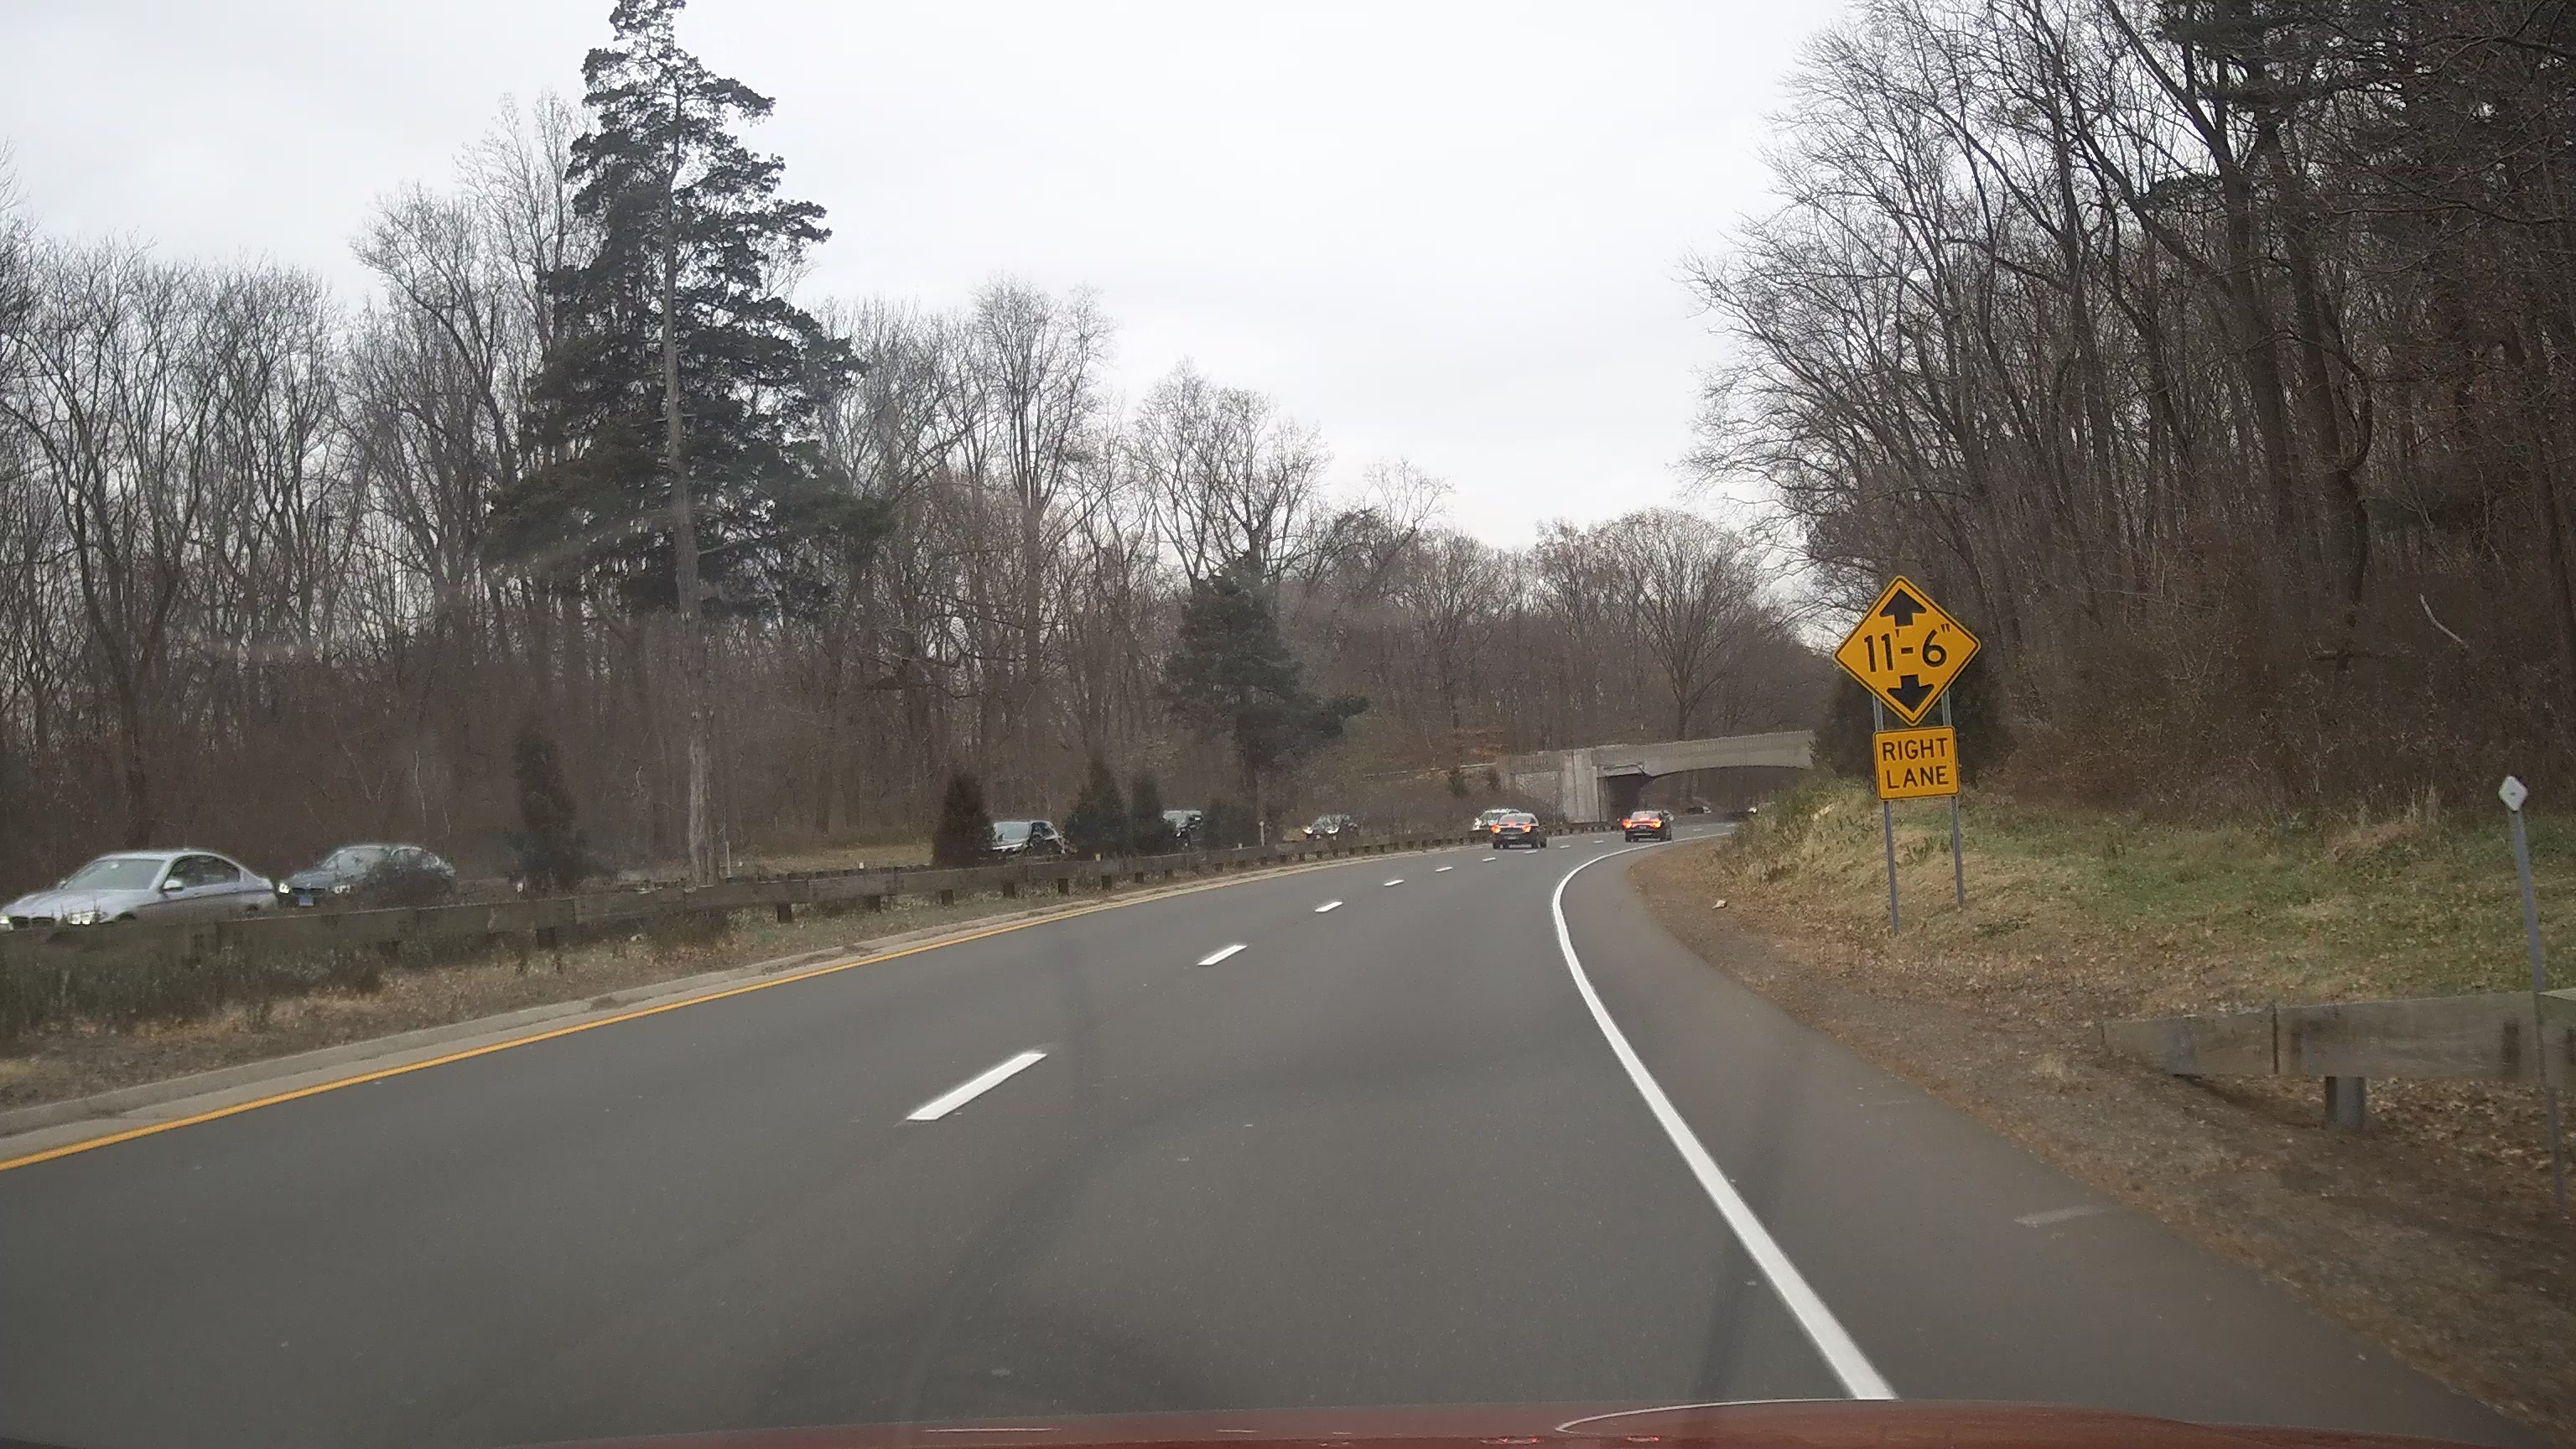low-clearance-sign: (1831, 575, 1982, 727)
